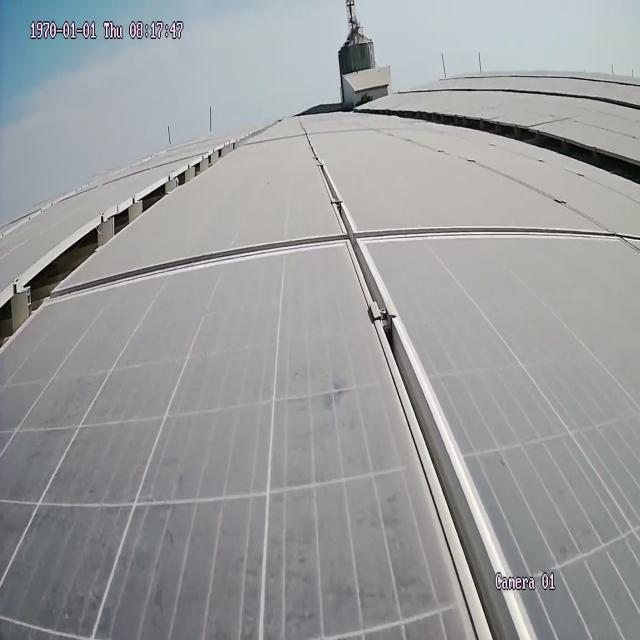interior panel: (316, 156, 527, 640), (59, 231, 336, 300), (371, 224, 633, 254)
outher panel: (0, 141, 241, 349), (384, 109, 636, 189)
